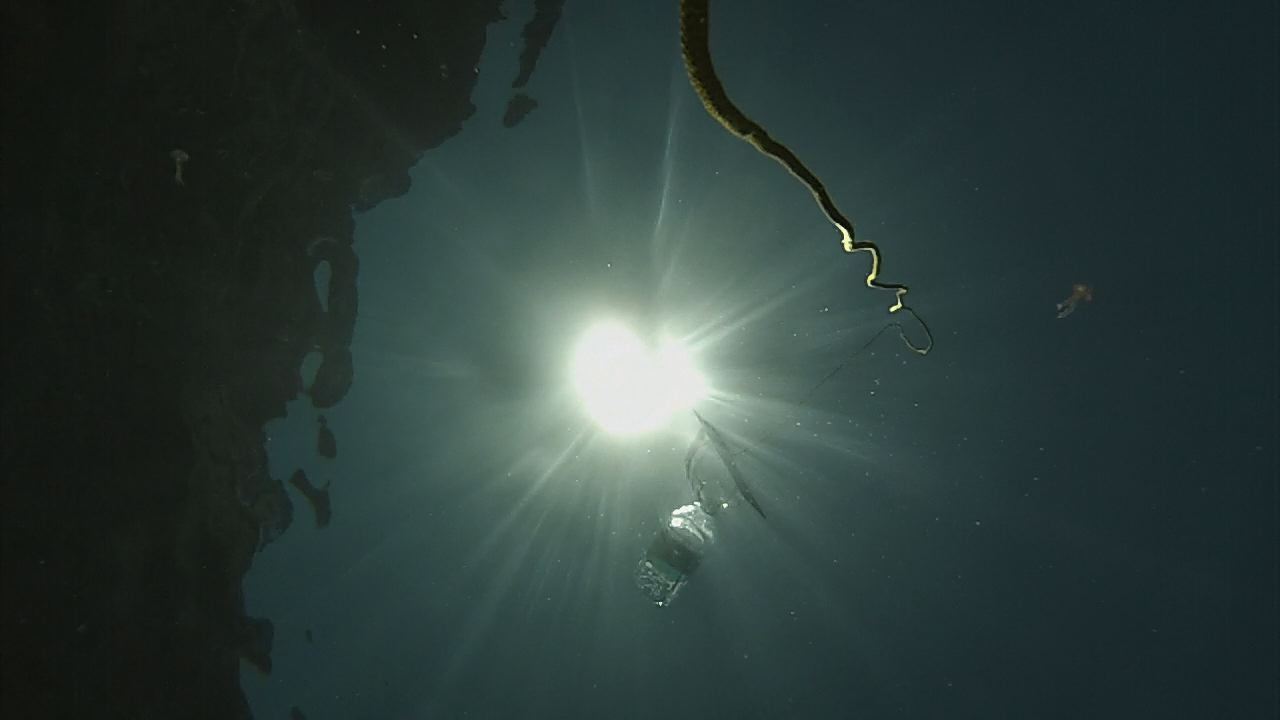pelagia: (1050, 279, 1101, 326), (166, 140, 198, 193)
